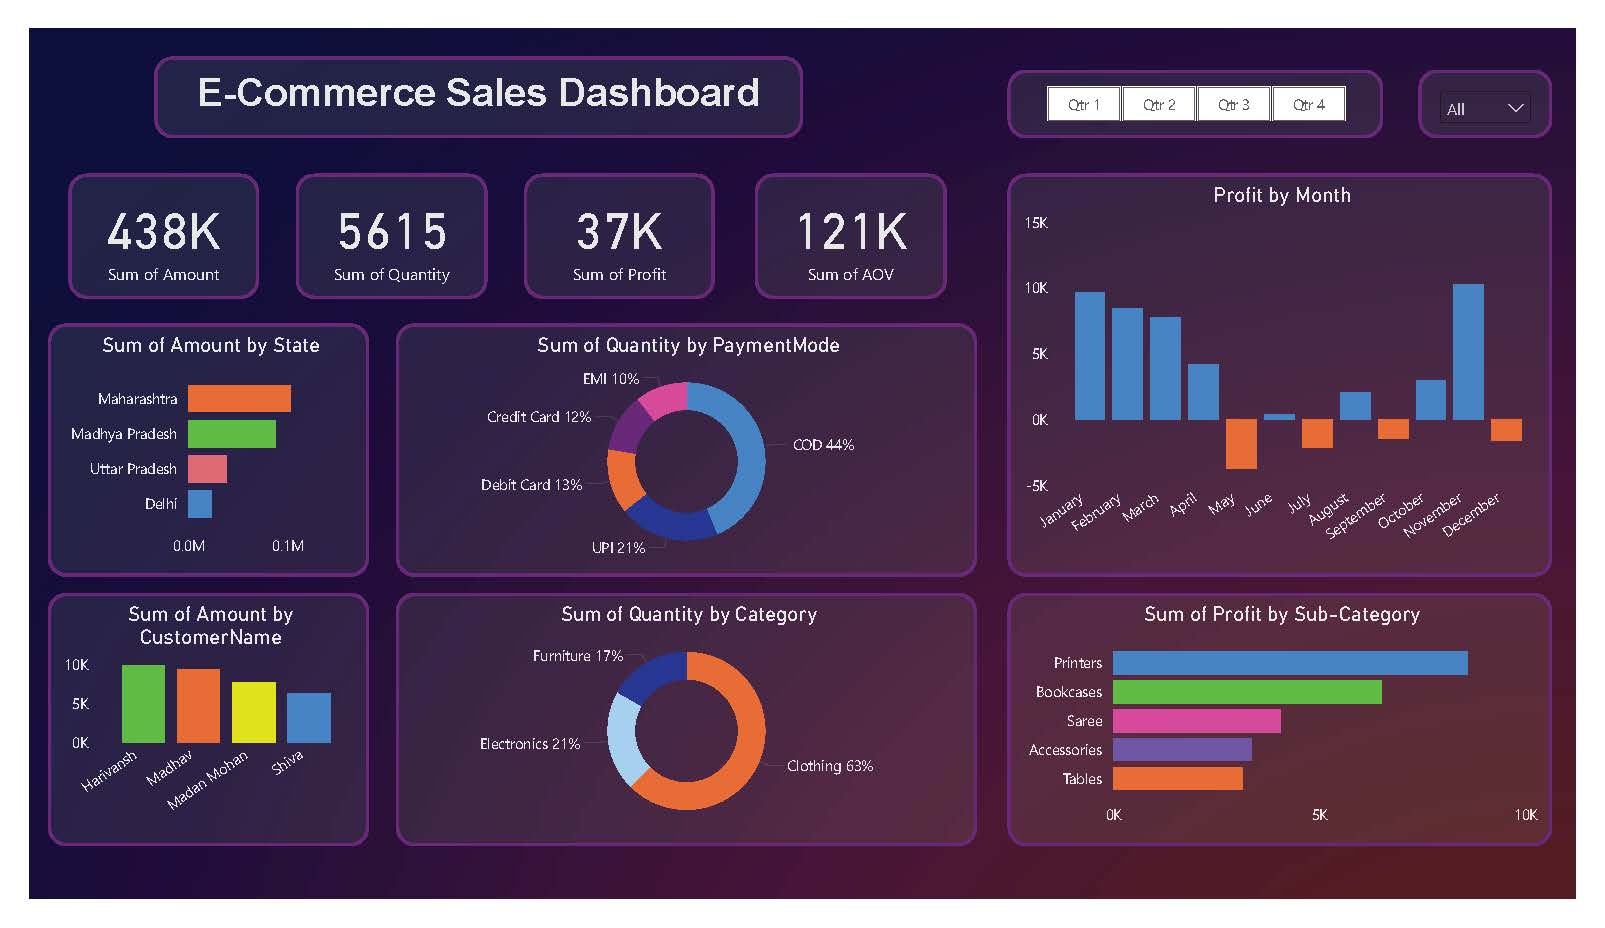

Layout of this report page (visuals, bound fields, positions):
{"tool":"powerbi","page":{"name":"Page 1","canvas":[1280,720],"ordinal":0},"visuals":[{"type":"textbox","box":[104.3,22.9,535.7,67.1],"z":0},{"type":"columnChart","title":"Profit by Month","fields":{"Category":["Orders.Order Date.Variation.Date Hierarchy.Month"],"Y":["Details.Profit"]},"box":[810,120,450,332.9],"z":1000},{"type":"clusteredBarChart","fields":{"Category":["Details.Sub-Category"],"Y":["Details.Profit"]},"box":[810,467.1,450,208.6],"z":2000},{"type":"donutChart","fields":{"Category":["Details.Category"],"Y":["Details.Quantity"]},"box":[304.3,467.1,480,208.6],"z":3000},{"type":"donutChart","fields":{"Category":["Details.PaymentMode"],"Y":["Details.Quantity"]},"box":[304.3,244.3,480,208.6],"z":4000},{"type":"card","fields":{"Values":["Details.Amount"]},"box":[32.9,120,157.1,102.9],"z":5000},{"type":"card","fields":{"Values":["Details.Quantity"]},"box":[221.4,120,157.1,102.9],"z":6000},{"type":"card","fields":{"Values":["Details.Profit"]},"box":[410,120,157.1,102.9],"z":7000},{"type":"card","fields":{"Values":["Details.AOV"]},"box":[601.4,120,157.1,102.9],"z":8000},{"type":"clusteredBarChart","fields":{"Y":["Details.Amount"],"Category":["Orders.State"]},"box":[15.7,244.3,265.7,208.6],"z":9000},{"type":"columnChart","fields":{"Category":["Orders.CustomerName"],"Y":["Details.Amount"]},"box":[15.7,467.1,265.7,208.6],"z":10000},{"type":"slicer","fields":{"Values":["Orders.Order Date.Variation.Date Hierarchy.Quarter"]},"box":[810,34.3,310,55.7],"z":11000},{"type":"slicer","fields":{"Values":["Orders.State"]},"box":[1150,34.3,110,55.7],"z":12000}]}

Visuals, with their boxes on the page's 1280x720 design canvas (x1, y1, x2, y2). These are canvas units, not pixel positions in the 1605x928 screenshot, which may show the page scaled, cropped or inside an application window:
textbox: 104,23,640,90
"Profit by Month" columnChart: 810,120,1260,453
clusteredBarChart - Details.Sub-Category x Details.Profit: 810,467,1260,676
donutChart - Details.Category x Details.Quantity: 304,467,784,676
donutChart - Details.PaymentMode x Details.Quantity: 304,244,784,453
card - Details.Amount: 33,120,190,223
card - Details.Quantity: 221,120,378,223
card - Details.Profit: 410,120,567,223
card - Details.AOV: 601,120,758,223
clusteredBarChart - Details.Amount x Orders.State: 16,244,281,453
columnChart - Orders.CustomerName x Details.Amount: 16,467,281,676
slicer - Orders.Order Date.Variation.Date Hierarchy.Quarter: 810,34,1120,90
slicer - Orders.State: 1150,34,1260,90
